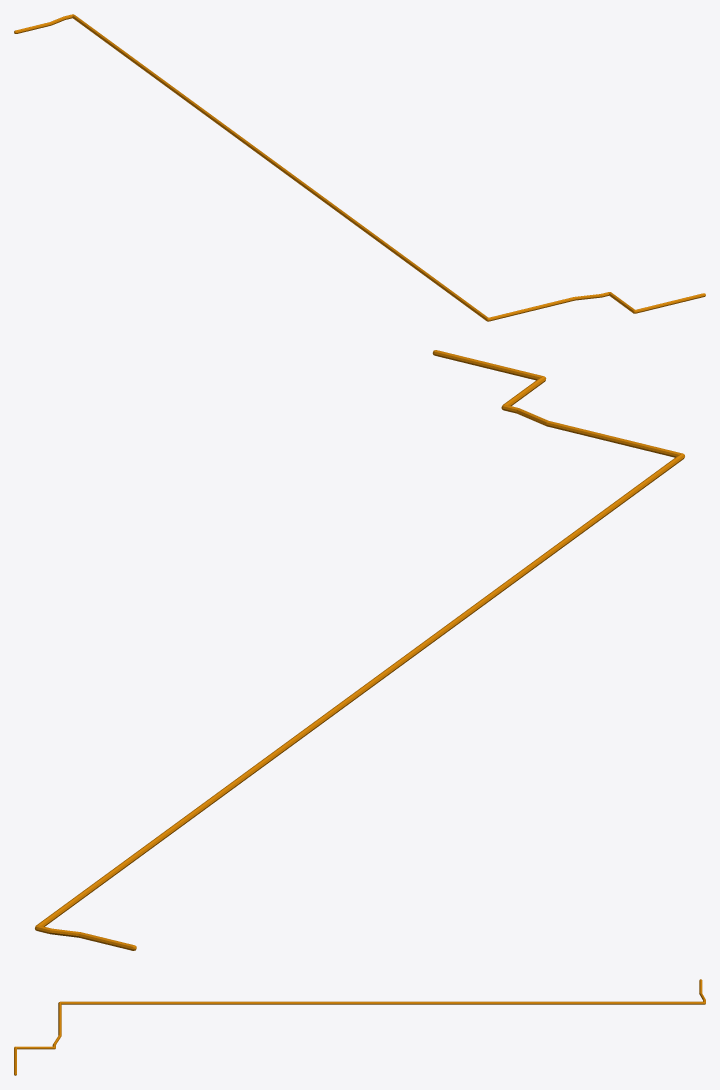
3 renders of one model, top to bottom at view 1: azimuth 30°, elevation 25°; view 2: azimuth 150°, elevation 25°; view 3: azimuth 270°, elevation 25°, orthographic. The views are drawn at different scales.
Bounding box in the file's own units: 1446 × 20 × 4456.
